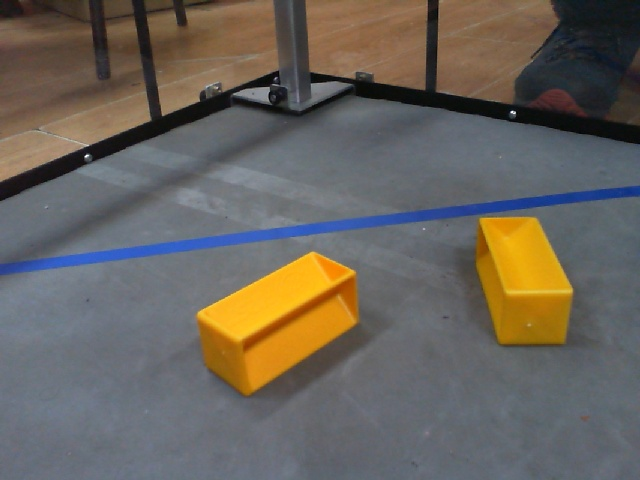YellowSample: (192, 251, 364, 403), (469, 213, 581, 349)
